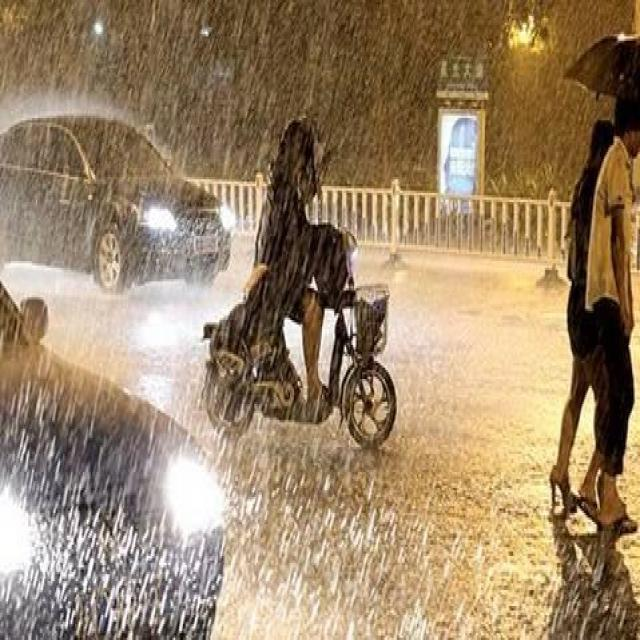car: (0, 272, 224, 633), (0, 113, 231, 293)
